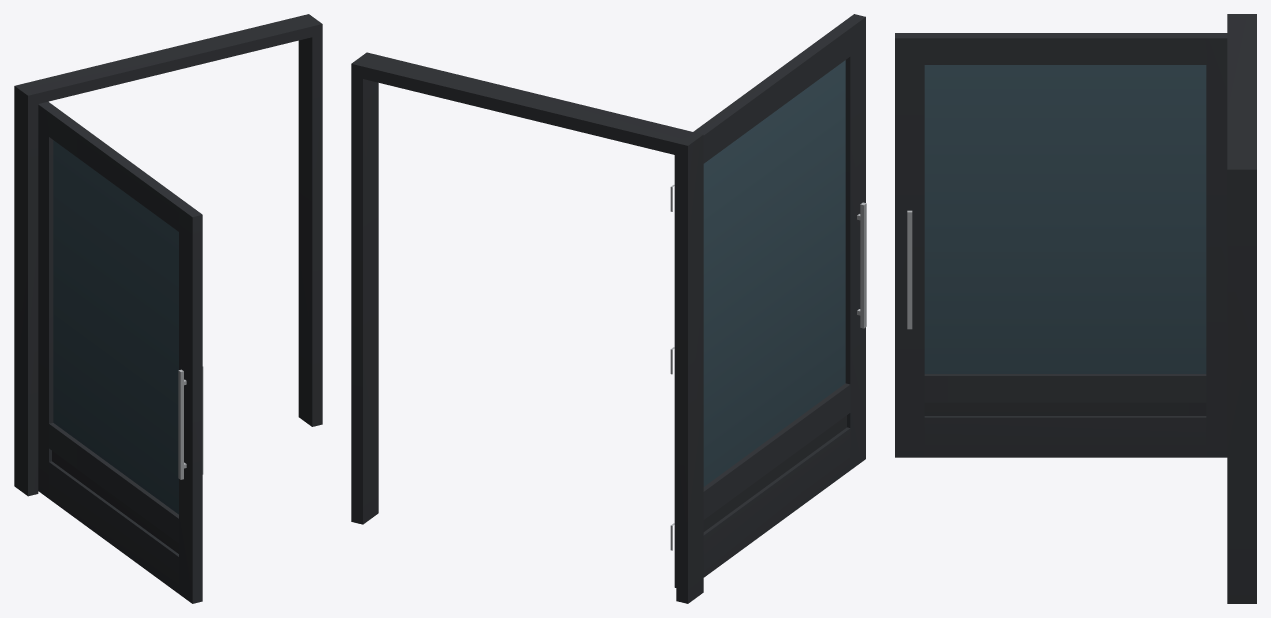
The model's file is door.painted_open.shop.glb.
The picture shows the model from 3 angles, left to right: view 1: azimuth 30°, elevation 25°; view 2: azimuth 150°, elevation 25°; view 3: azimuth 270°, elevation 25°; orthographic projection. The views are drawn at different scales.
Visible parts, largest first — view 1: door_painted_open_shop; view 2: door_painted_open_shop; view 3: door_painted_open_shop.
Boxes of the visible parts, left/top/right/bottom form: door_painted_open_shop: left=14, top=14, right=322, bottom=603; door_painted_open_shop: left=351, top=14, right=866, bottom=603; door_painted_open_shop: left=895, top=14, right=1256, bottom=603.
Size of what is drawn, in the model's own units: 2 by 2.6 by 1.96.
